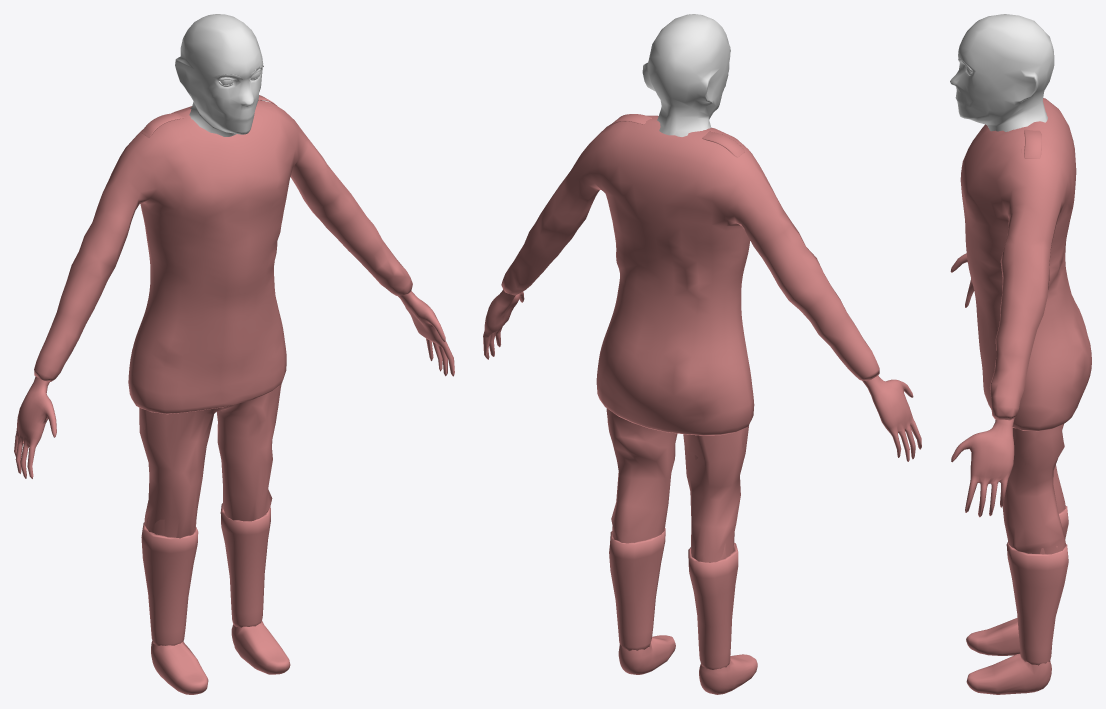
3 views of the same model, side by side, from view 1: azimuth 30°, elevation 25°; view 2: azimuth 150°, elevation 25°; view 3: azimuth 270°, elevation 25° (orthographic).
Visible parts, largest first — view 1: shirt, pants, whole_body, low_poly_head, right_wrap, left_wrap; view 2: shirt, pants, low_poly_head, whole_body, left_wrap, right_wrap; view 3: shirt, low_poly_head, whole_body, pants, left_wrap, left_tasle.
Part boxes in pixels (x1,y1,x2,y2): shirt: (34, 100, 412, 414); pants: (139, 384, 281, 538); whole_body: (14, 107, 454, 694); low_poly_head: (175, 14, 263, 136); right_wrap: (141, 522, 198, 645); left_wrap: (220, 503, 270, 627); shirt: (501, 115, 879, 435); pants: (606, 408, 748, 562); low_poly_head: (642, 14, 730, 136); whole_body: (483, 289, 921, 694); left_wrap: (609, 528, 665, 650); right_wrap: (688, 543, 738, 669); shirt: (960, 98, 1091, 431); low_poly_head: (950, 14, 1054, 131); whole_body: (950, 149, 1057, 694); pants: (1001, 424, 1066, 554); left_wrap: (1006, 541, 1068, 665); left_tasle: (1024, 129, 1041, 158).
Bounding box in the file's own units: 18.45 × 27.06 × 5.33.
